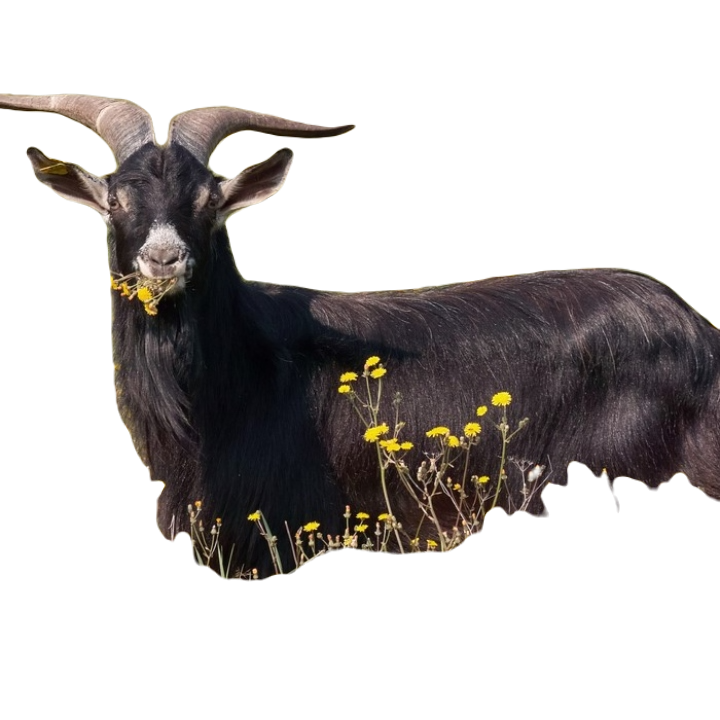Goat: (1, 91, 719, 582)
